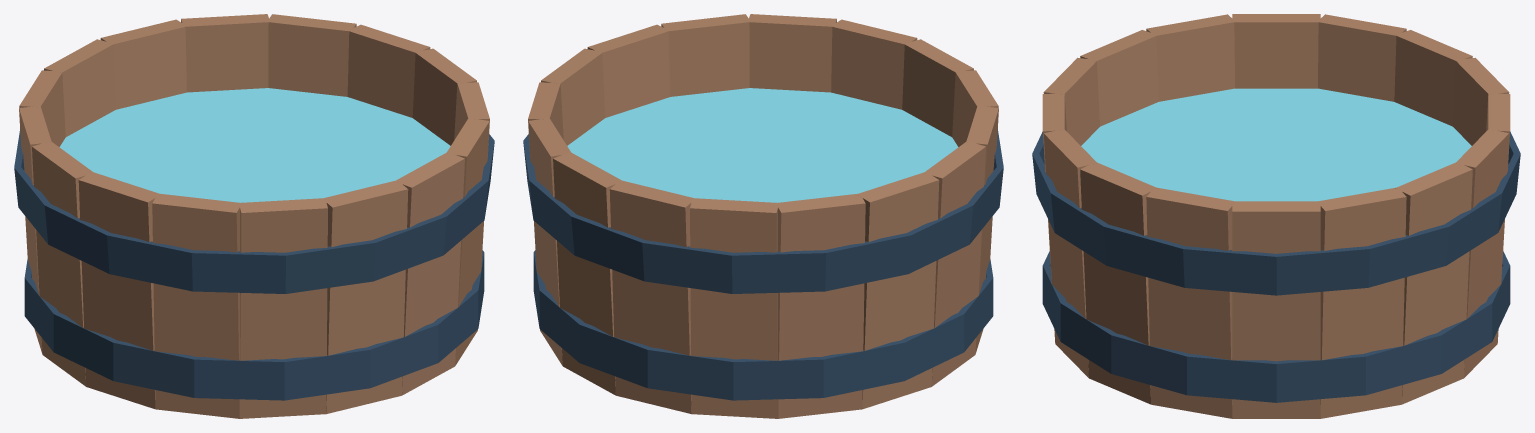
File: Bucket.fbx
The picture shows the model from 3 angles, left to right: view 1: azimuth 30°, elevation 25°; view 2: azimuth 150°, elevation 25°; view 3: azimuth 270°, elevation 25°; orthographic projection.
Visible parts, largest first — view 1: Bucket_Geo; view 2: Bucket_Geo; view 3: Bucket_Geo.
Boxes of the visible parts, x1=… form: Bucket_Geo: x1=14, y1=14, x2=494, y2=418; Bucket_Geo: x1=523, y1=14, x2=1003, y2=418; Bucket_Geo: x1=1032, y1=14, x2=1520, y2=418.
Bounding box in the file's own units: 39.81 × 19.27 × 39.81.
